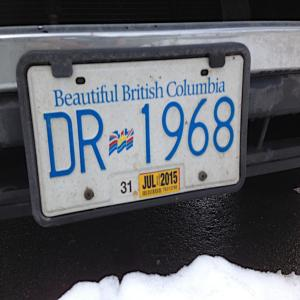Vehicle-registration-plate: (17, 43, 252, 228)
